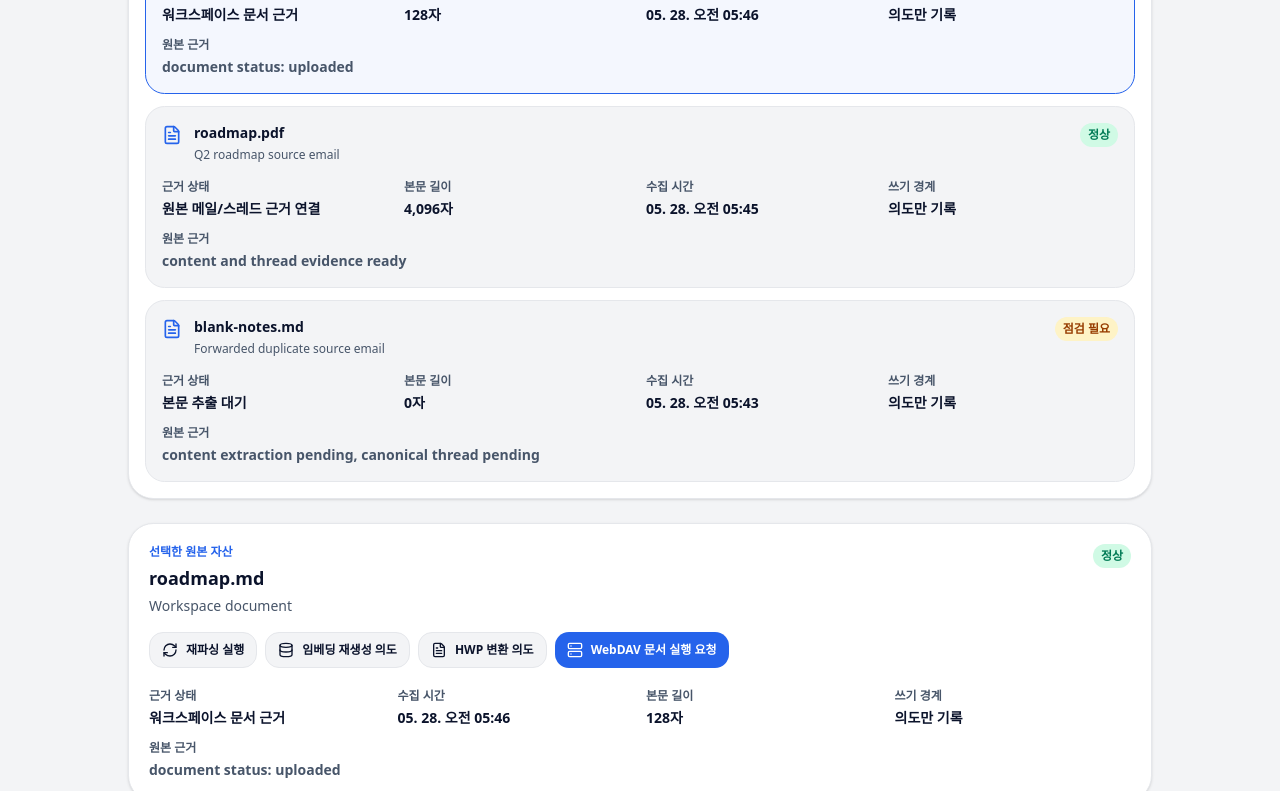
DataPage › renders document repository ingestion embeddings quality and WebDAV writeback details
(page scrolled)
Expected: the element named "선택한 파일 자산 상세" shows "roadmap.md", [149,566,264,590]
Expected: the element named "선택한 파일 자산 상세" shows "document status: uploaded", [149,760,341,779]
What coordinates should you click on to do the following:
click the button that starts with "blank-notes.md"
I would click on:
 (640, 391)
Its box is [145,300,1135,482].
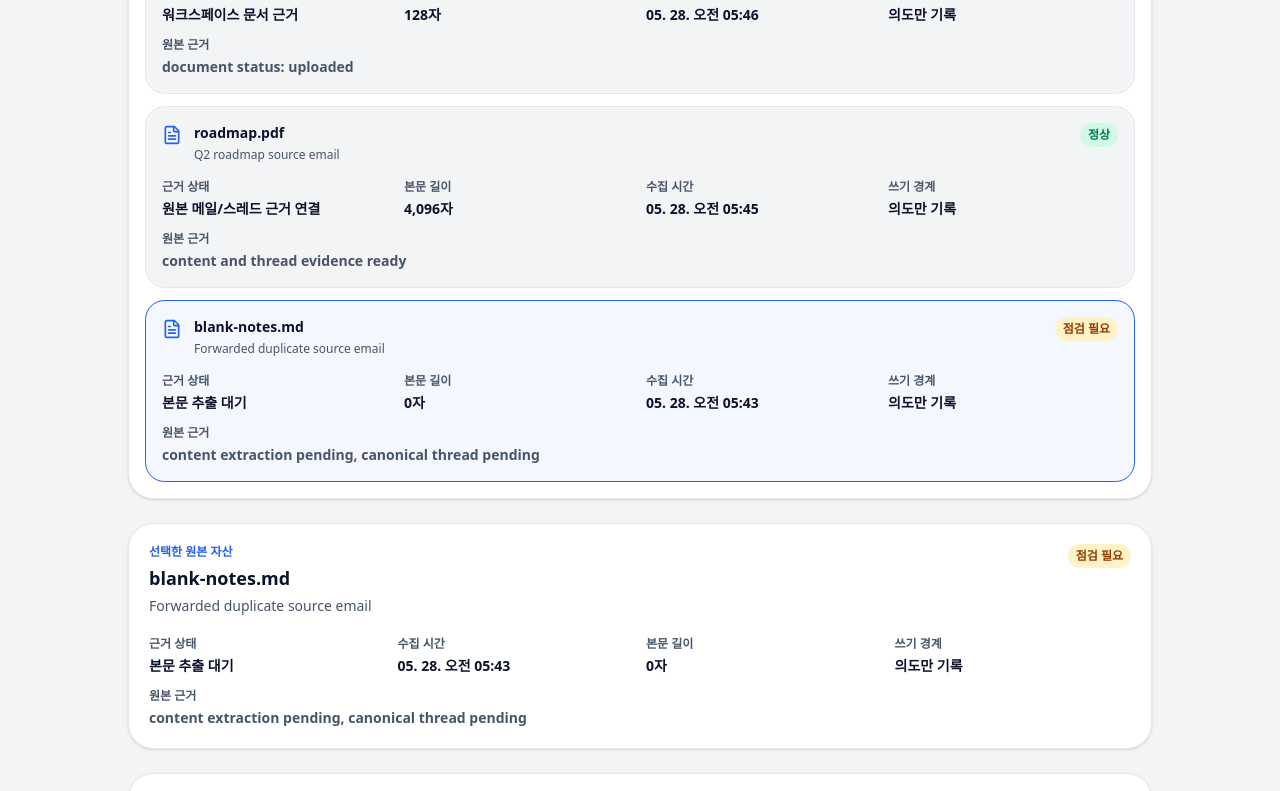
Expected: the element named "선택한 파일 자산 상세" shows "blank-notes.md", [149,566,290,590]
Expected: the element named "선택한 파일 자산 상세" shows "본문 추출 대기", [149,656,234,675]
Expected: the element named "선택한 파일 자산 상세" shows "content extraction pending, canonical thread pending", [149,708,527,727]
